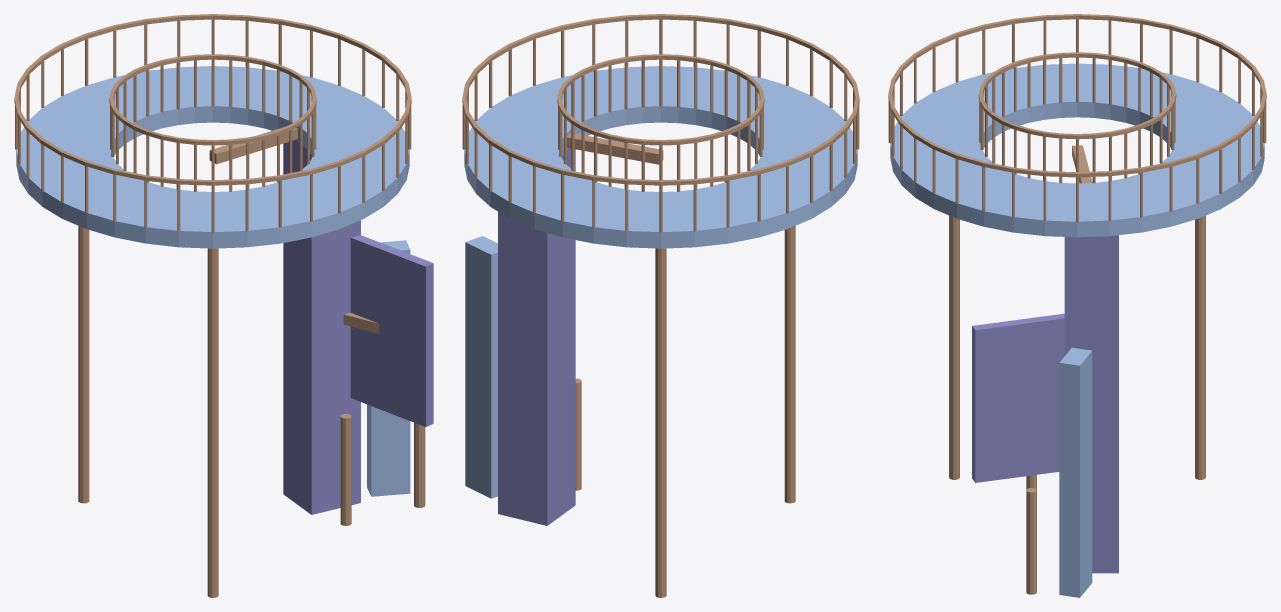
File: folie_tag_049.glb
3 views of the same model, side by side, from view 1: azimuth 30°, elevation 25°; view 2: azimuth 150°, elevation 25°; view 3: azimuth 270°, elevation 25° (orthographic). The views are drawn at different scales.
Parts seen in each view (by area): view 1: folie_tag_049_00_ring, folie_tag_049_line, folie_tag_049_core, folie_tag_049_01_panel, folie_tag_049_02_fin; view 2: folie_tag_049_00_ring, folie_tag_049_line, folie_tag_049_core, folie_tag_049_02_fin; view 3: folie_tag_049_00_ring, folie_tag_049_line, folie_tag_049_01_panel, folie_tag_049_core, folie_tag_049_02_fin.
Part boxes in pixels (x1=…): folie_tag_049_00_ring: x1=16, y1=66, x2=409, y2=248; folie_tag_049_line: x1=14, y1=14, x2=425, y2=597; folie_tag_049_core: x1=283, y1=140, x2=360, y2=514; folie_tag_049_01_panel: x1=350, y1=235, x2=433, y2=426; folie_tag_049_02_fin: x1=367, y1=240, x2=410, y2=496; folie_tag_049_00_ring: x1=464, y1=66, x2=857, y2=248; folie_tag_049_line: x1=462, y1=14, x2=859, y2=597; folie_tag_049_core: x1=498, y1=148, x2=575, y2=525; folie_tag_049_02_fin: x1=465, y1=236, x2=497, y2=498; folie_tag_049_00_ring: x1=890, y1=63, x2=1264, y2=237; folie_tag_049_line: x1=888, y1=14, x2=1266, y2=594; folie_tag_049_01_panel: x1=972, y1=313, x2=1065, y2=482; folie_tag_049_core: x1=1064, y1=235, x2=1118, y2=573; folie_tag_049_02_fin: x1=1059, y1=347, x2=1092, y2=597.
Size of the model in its own units: 8.18 by 9.27 by 7.68.
